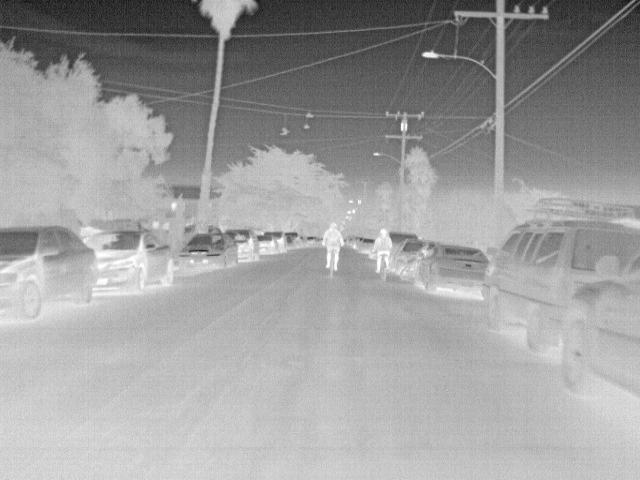car: (476, 221, 635, 356), (555, 256, 636, 407), (3, 225, 97, 320), (81, 227, 174, 294), (417, 244, 485, 295), (179, 230, 235, 272), (393, 238, 433, 281), (226, 230, 260, 260), (254, 234, 276, 255), (266, 231, 287, 252), (284, 230, 302, 248)
person: (370, 228, 392, 274), (323, 223, 343, 272)
